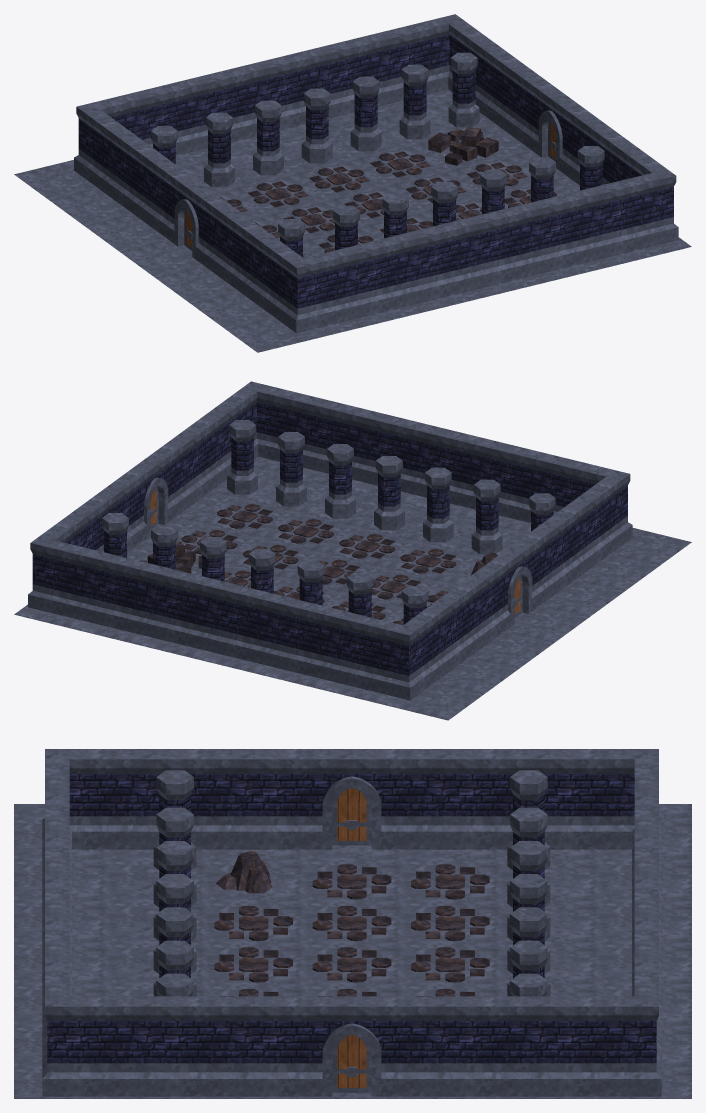
Rendered from temple.glb.
3 views of the same model, one above another, from view 1: azimuth 30°, elevation 25°; view 2: azimuth 150°, elevation 25°; view 3: azimuth 270°, elevation 25° (orthographic). The views are drawn at different scales.
Visible parts, largest first — view 1: mergedBlocks(Clone); view 2: mergedBlocks(Clone); view 3: mergedBlocks(Clone).
Part boxes in pixels (x1=…): mergedBlocks(Clone): x1=14, y1=14, x2=691, y2=352; mergedBlocks(Clone): x1=14, y1=381, x2=691, y2=720; mergedBlocks(Clone): x1=14, y1=749, x2=691, y2=1098.
Size of the model in its own units: 7.1 by 1 by 6.9.
4 materials, 4 textured.
